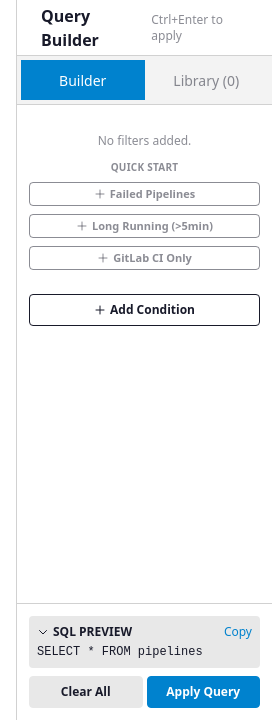
Test: QueryBuilderSidebar › shows empty state when no saved views
Click the button "Library (0)": x=206, y=80 [144, 60, 268, 100]
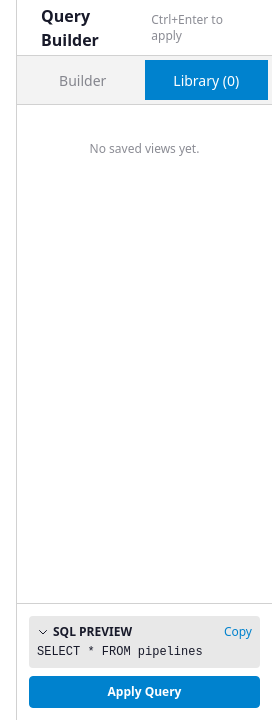
Expected: the text "No saved views yet." is shown, [90, 140, 199, 157]
